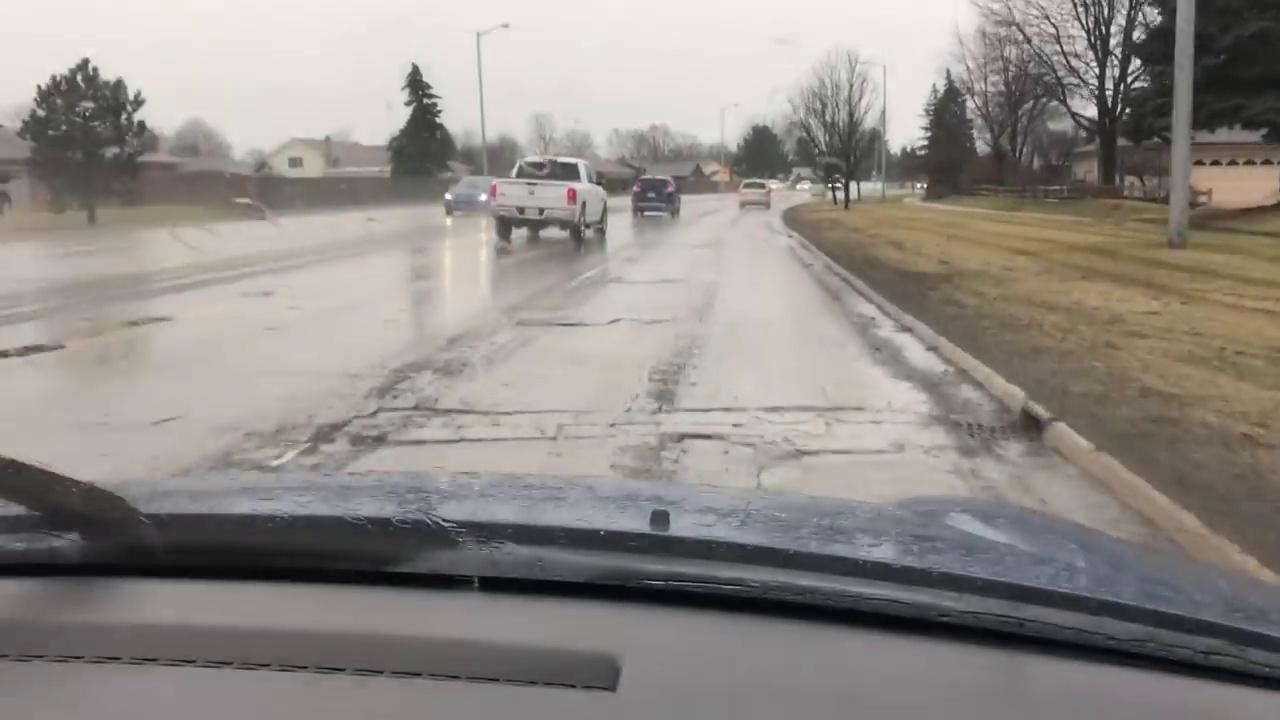pothole: (352, 406, 572, 446), (675, 434, 760, 489)
